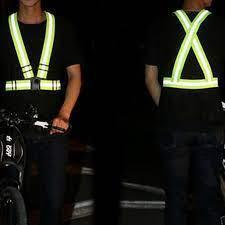Vest: (1, 10, 61, 92), (164, 8, 222, 87)
